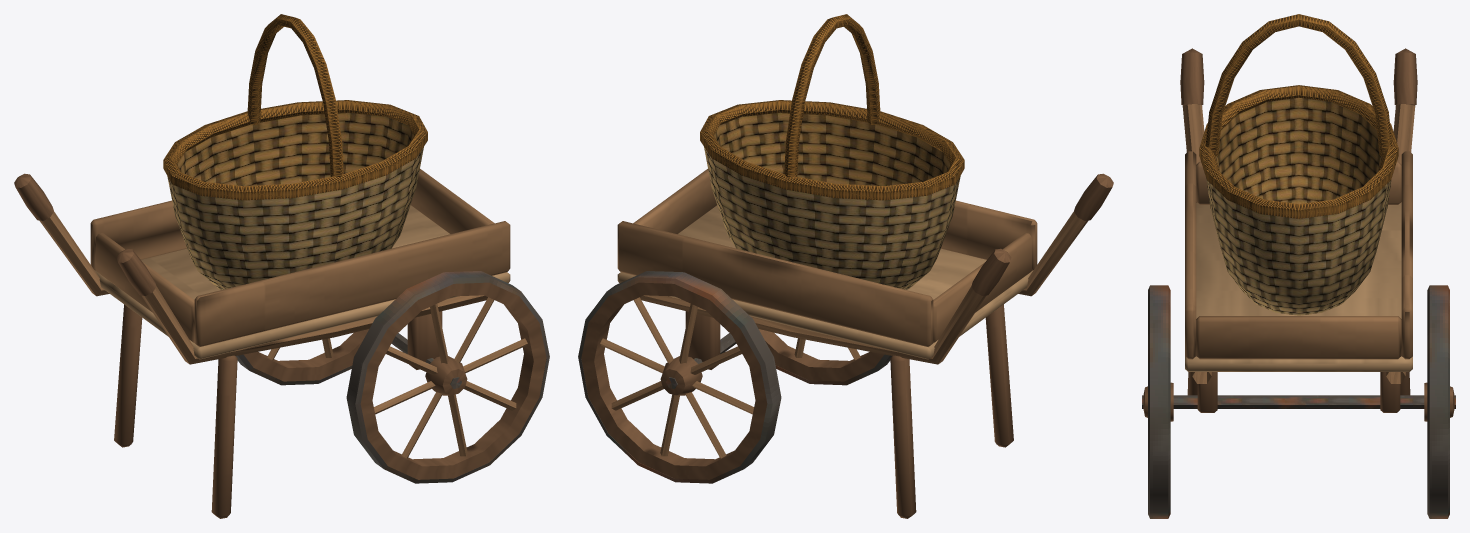
Rendered from shop-cart.glb.
The picture shows the model from 3 angles, left to right: view 1: azimuth 30°, elevation 25°; view 2: azimuth 150°, elevation 25°; view 3: azimuth 270°, elevation 25°; orthographic projection. The views are drawn at different scales.
Visible parts, largest first — view 1: shop-cart; view 2: shop-cart; view 3: shop-cart.
Boxes of the visible parts, bbox=[...] form: shop-cart: bbox=[14, 14, 549, 518]; shop-cart: bbox=[578, 14, 1113, 518]; shop-cart: bbox=[1142, 14, 1455, 518].
Size of the model in its own units: 0.8673 by 0.8727 by 0.55.
Materials: 3 (3 with a texture image).
